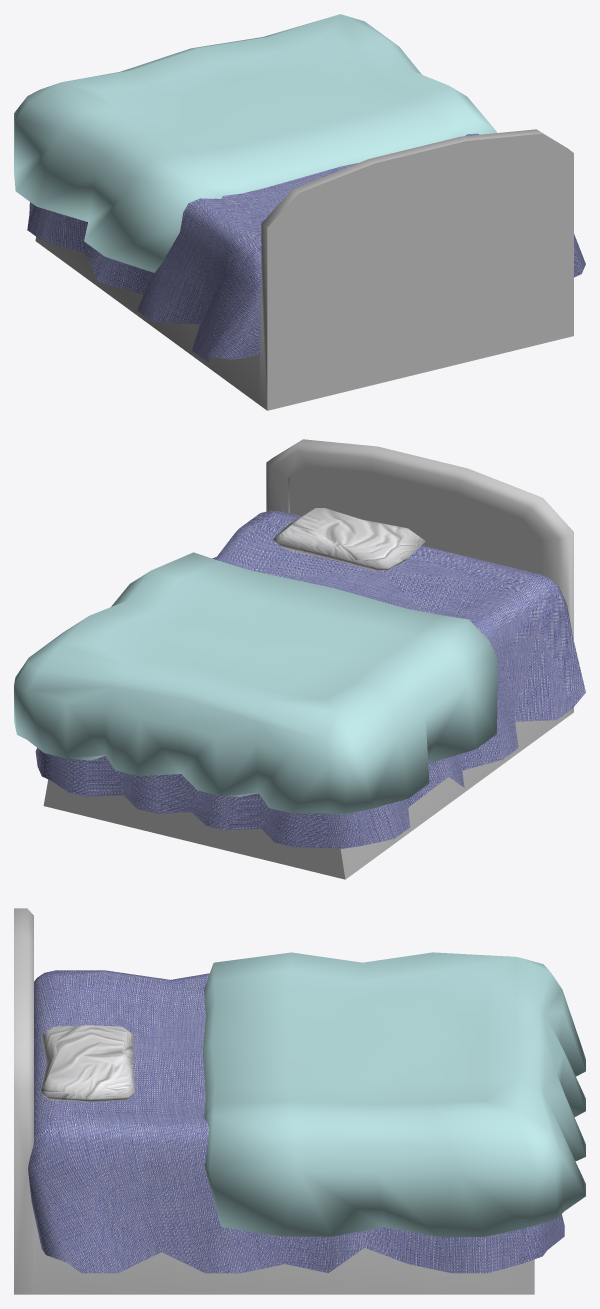
Rendered from bed.fbx.
3 renders of one model, top to bottom at view 1: azimuth 30°, elevation 25°; view 2: azimuth 150°, elevation 25°; view 3: azimuth 270°, elevation 25°, orthographic. The views are drawn at different scales.
Visible parts, largest first — view 1: Bed.001, Bed Blanket.002, Bed Cover.002; view 2: Bed Blanket.002, Bed Cover.002, Bed.001, Cube.044; view 3: Bed Blanket.002, Bed Cover.002, Bed.001, Cube.044.
Boxes of the visible parts, box(x1,y1,x2,y2) form: Bed.001: box(35, 129, 573, 410); Bed Blanket.002: box(14, 14, 496, 272); Bed Cover.002: box(27, 133, 585, 362); Bed Blanket.002: box(14, 552, 497, 814); Bed Cover.002: box(35, 510, 585, 848); Bed.001: box(43, 439, 573, 879); Cube.044: box(272, 508, 425, 570); Bed Blanket.002: box(203, 952, 585, 1236); Bed Cover.002: box(28, 970, 564, 1273); Bed.001: box(14, 908, 534, 1294); Cube.044: box(40, 1025, 134, 1102).
Size of the model in its own units: 679 by 360 by 750.
